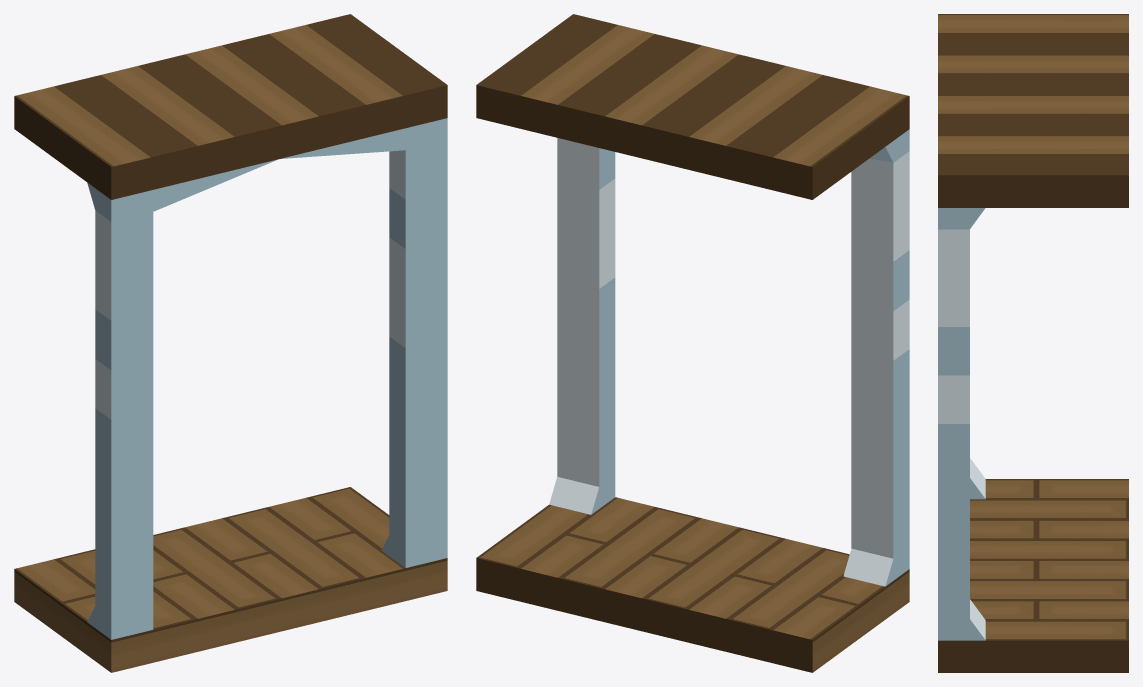
Rendered from HomeWallDoorSide.obj.
The picture shows the model from 3 angles, left to right: view 1: azimuth 30°, elevation 25°; view 2: azimuth 150°, elevation 25°; view 3: azimuth 270°, elevation 25°; orthographic projection.
Parts seen in each view (by area): view 1: Mid, Wall; view 2: Mid, Wall; view 3: Mid, Wall.
Boxes of the visible parts, <box> form: Mid: <box>14,14,447,672</box>; Wall: <box>87,118,447,639</box>; Mid: <box>476,14,909,672</box>; Wall: <box>549,129,909,586</box>; Mid: <box>938,14,1128,672</box>; Wall: <box>938,208,985,640</box>.
Bounding box in the file's own units: 2 × 2.88 × 1.
Materials: 2 (2 with a texture image).
